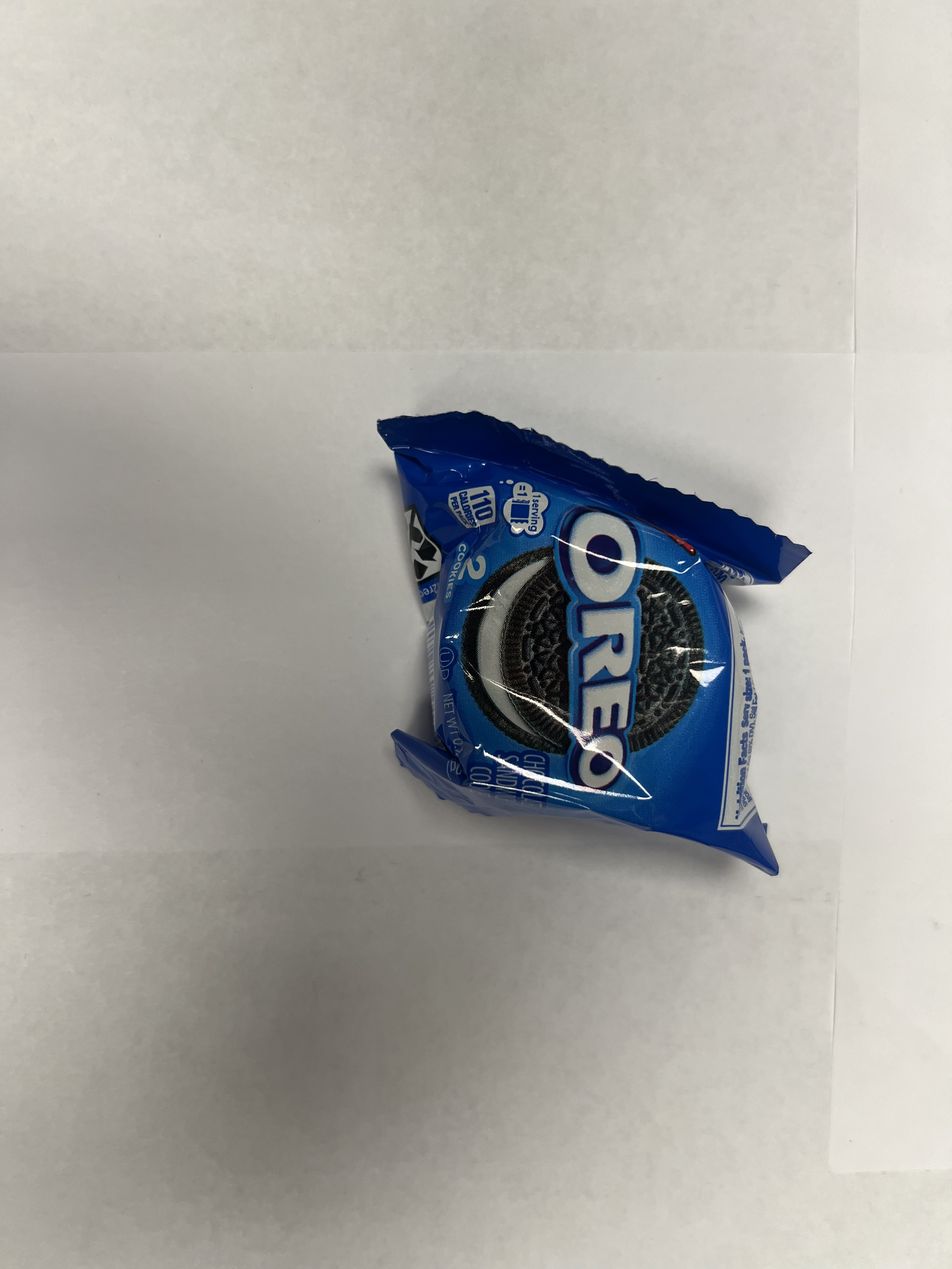packaged: (380, 406, 808, 883)
